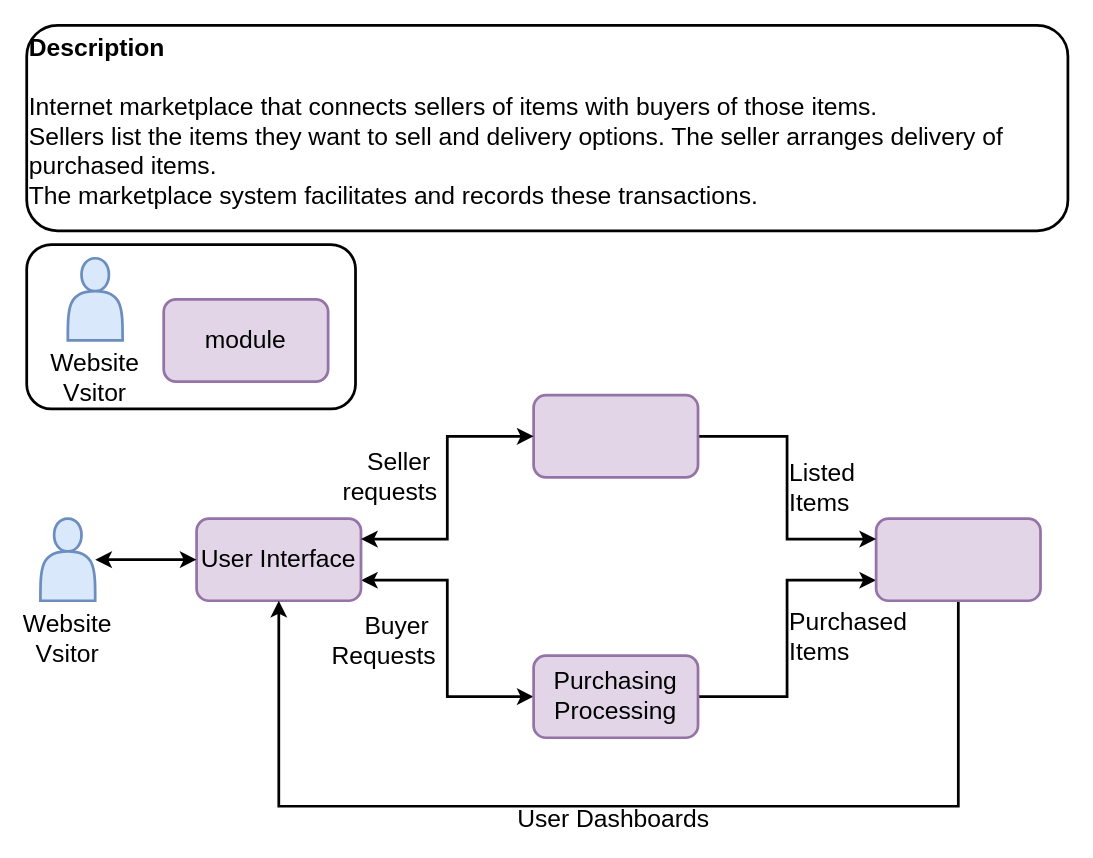
Some shapes in this 1093 by 858 pixel diagram are drawn without their labels. Here are the shapes that lost their labels. From the top down, the box of each, then its label:
(25, 242, 356, 410): Key
(532, 393, 699, 478): Selling Processing
(874, 516, 1041, 601): Reporting
